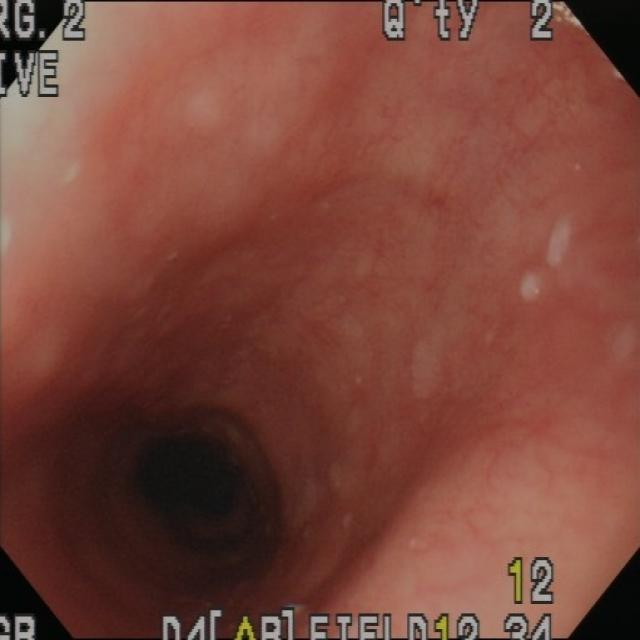E: (95, 391, 284, 596)
J: (520, 214, 577, 306), (409, 330, 443, 411)
S: (160, 608, 483, 640), (383, 3, 558, 45), (3, 3, 88, 43), (3, 50, 63, 101), (507, 558, 556, 608), (506, 614, 556, 640), (2, 614, 39, 640)
